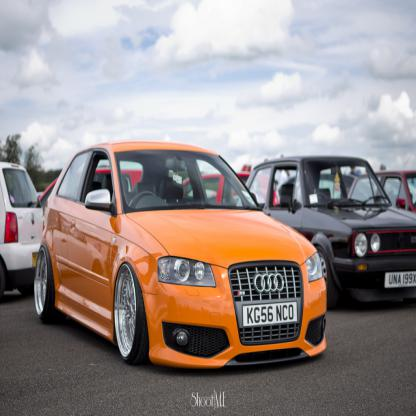Car: (0, 140, 415, 370)
